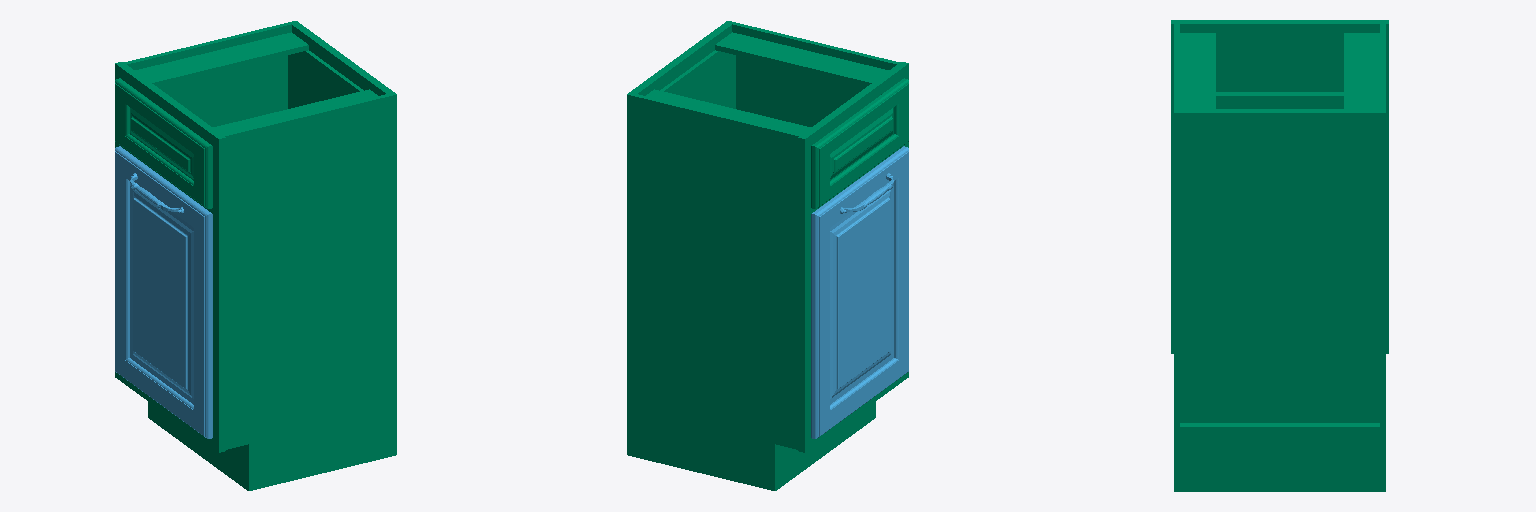
robot.urdf — partnet_3c2a50e5907b0fb64da5feafe6f1c8fc:
<?xml version="1.0" ?>
<robot name="partnet_3c2a50e5907b0fb64da5feafe6f1c8fc">
	<link name="base"/>
	<link name="link_0">
		<visual name="cabinet_door_surface-7">
			<origin xyz="-0.3840751738462726 -0.8307549953460693 -0.42810070996948674"/>
			<geometry>
				<mesh filename="textured_objs/original-45.obj"/>
			</geometry>
		</visual>
		<visual name="cabinet_door_surface-7">
			<origin xyz="-0.3840751738462726 -0.8307549953460693 -0.42810070996948674"/>
			<geometry>
				<mesh filename="textured_objs/original-39.obj"/>
			</geometry>
		</visual>
		<visual name="cabinet_door_surface-7">
			<origin xyz="-0.3840751738462726 -0.8307549953460693 -0.42810070996948674"/>
			<geometry>
				<mesh filename="textured_objs/original-36.obj"/>
			</geometry>
		</visual>
		<visual name="cabinet_door_surface-7">
			<origin xyz="-0.3840751738462726 -0.8307549953460693 -0.42810070996948674"/>
			<geometry>
				<mesh filename="textured_objs/original-42.obj"/>
			</geometry>
		</visual>
		<visual name="cabinet_door_surface-7">
			<origin xyz="-0.3840751738462726 -0.8307549953460693 -0.42810070996948674"/>
			<geometry>
				<mesh filename="textured_objs/original-38.obj"/>
			</geometry>
		</visual>
		<visual name="cabinet_door_surface-7">
			<origin xyz="-0.3840751738462726 -0.8307549953460693 -0.42810070996948674"/>
			<geometry>
				<mesh filename="textured_objs/original-40.obj"/>
			</geometry>
		</visual>
		<visual name="cabinet_door_surface-7">
			<origin xyz="-0.3840751738462726 -0.8307549953460693 -0.42810070996948674"/>
			<geometry>
				<mesh filename="textured_objs/original-37.obj"/>
			</geometry>
		</visual>
		<visual name="cabinet_door_surface-7">
			<origin xyz="-0.3840751738462726 -0.8307549953460693 -0.42810070996948674"/>
			<geometry>
				<mesh filename="textured_objs/original-41.obj"/>
			</geometry>
		</visual>
		<visual name="cabinet_door_surface-7">
			<origin xyz="-0.3840751738462726 -0.8307549953460693 -0.42810070996948674"/>
			<geometry>
				<mesh filename="textured_objs/original-35.obj"/>
			</geometry>
		</visual>
		<visual name="cabinet_door_surface-7">
			<origin xyz="-0.3840751738462726 -0.8307549953460693 -0.42810070996948674"/>
			<geometry>
				<mesh filename="textured_objs/original-44.obj"/>
			</geometry>
		</visual>
		<visual name="handle-8">
			<origin xyz="-0.3840751738462726 -0.8307549953460693 -0.42810070996948674"/>
			<geometry>
				<mesh filename="textured_objs/original-52.obj"/>
			</geometry>
		</visual>
		<visual name="handle-8">
			<origin xyz="-0.3840751738462726 -0.8307549953460693 -0.42810070996948674"/>
			<geometry>
				<mesh filename="textured_objs/original-53.obj"/>
			</geometry>
		</visual>
		<visual name="handle-8">
			<origin xyz="-0.3840751738462726 -0.8307549953460693 -0.42810070996948674"/>
			<geometry>
				<mesh filename="textured_objs/original-49.obj"/>
			</geometry>
		</visual>
		<visual name="handle-8">
			<origin xyz="-0.3840751738462726 -0.8307549953460693 -0.42810070996948674"/>
			<geometry>
				<mesh filename="textured_objs/original-48.obj"/>
			</geometry>
		</visual>
		<visual name="handle-8">
			<origin xyz="-0.3840751738462726 -0.8307549953460693 -0.42810070996948674"/>
			<geometry>
				<mesh filename="textured_objs/original-51.obj"/>
			</geometry>
		</visual>
		<collision>
			<origin xyz="-0.3840751738462726 -0.8307549953460693 -0.42810070996948674"/>
			<geometry>
				<mesh filename="textured_objs/original-45.obj"/>
			</geometry>
		</collision>
		<collision>
			<origin xyz="-0.3840751738462726 -0.8307549953460693 -0.42810070996948674"/>
			<geometry>
				<mesh filename="textured_objs/original-39.obj"/>
			</geometry>
		</collision>
		<collision>
			<origin xyz="-0.3840751738462726 -0.8307549953460693 -0.42810070996948674"/>
			<geometry>
				<mesh filename="textured_objs/original-36.obj"/>
			</geometry>
		</collision>
		<collision>
			<origin xyz="-0.3840751738462726 -0.8307549953460693 -0.42810070996948674"/>
			<geometry>
				<mesh filename="textured_objs/original-42.obj"/>
			</geometry>
		</collision>
		<collision>
			<origin xyz="-0.3840751738462726 -0.8307549953460693 -0.42810070996948674"/>
			<geometry>
				<mesh filename="textured_objs/original-38.obj"/>
			</geometry>
		</collision>
		<collision>
			<origin xyz="-0.3840751738462726 -0.8307549953460693 -0.42810070996948674"/>
			<geometry>
				<mesh filename="textured_objs/original-40.obj"/>
			</geometry>
		</collision>
		<collision>
			<origin xyz="-0.3840751738462726 -0.8307549953460693 -0.42810070996948674"/>
			<geometry>
				<mesh filename="textured_objs/original-37.obj"/>
			</geometry>
		</collision>
		<collision>
			<origin xyz="-0.3840751738462726 -0.8307549953460693 -0.42810070996948674"/>
			<geometry>
				<mesh filename="textured_objs/original-41.obj"/>
			</geometry>
		</collision>
		<collision>
			<origin xyz="-0.3840751738462726 -0.8307549953460693 -0.42810070996948674"/>
			<geometry>
				<mesh filename="textured_objs/original-35.obj"/>
			</geometry>
		</collision>
		<collision>
			<origin xyz="-0.3840751738462726 -0.8307549953460693 -0.42810070996948674"/>
			<geometry>
				<mesh filename="textured_objs/original-44.obj"/>
			</geometry>
		</collision>
		<collision>
			<origin xyz="-0.3840751738462726 -0.8307549953460693 -0.42810070996948674"/>
			<geometry>
				<mesh filename="textured_objs/original-52.obj"/>
			</geometry>
		</collision>
		<collision>
			<origin xyz="-0.3840751738462726 -0.8307549953460693 -0.42810070996948674"/>
			<geometry>
				<mesh filename="textured_objs/original-53.obj"/>
			</geometry>
		</collision>
		<collision>
			<origin xyz="-0.3840751738462726 -0.8307549953460693 -0.42810070996948674"/>
			<geometry>
				<mesh filename="textured_objs/original-49.obj"/>
			</geometry>
		</collision>
		<collision>
			<origin xyz="-0.3840751738462726 -0.8307549953460693 -0.42810070996948674"/>
			<geometry>
				<mesh filename="textured_objs/original-48.obj"/>
			</geometry>
		</collision>
		<collision>
			<origin xyz="-0.3840751738462726 -0.8307549953460693 -0.42810070996948674"/>
			<geometry>
				<mesh filename="textured_objs/original-51.obj"/>
			</geometry>
		</collision>
	</link>
	<joint name="joint_0" type="revolute">
		<origin xyz="0.3840751738462726 0.8307549953460693 0.42810070996948674"/>
		<axis xyz="0 1 0"/>
		<child link="link_0"/>
		<parent link="link_1"/>
		<limit lower="0.0" upper="1.5707963267948966"/>
	</joint>
	<link name="link_1">
		<visual name="drawer_front-6">
			<origin xyz="0 0 0"/>
			<geometry>
				<mesh filename="textured_objs/original-32.obj"/>
			</geometry>
		</visual>
		<visual name="drawer_front-6">
			<origin xyz="0 0 0"/>
			<geometry>
				<mesh filename="textured_objs/original-27.obj"/>
			</geometry>
		</visual>
		<visual name="drawer_front-6">
			<origin xyz="0 0 0"/>
			<geometry>
				<mesh filename="textured_objs/original-23.obj"/>
			</geometry>
		</visual>
		<visual name="drawer_front-6">
			<origin xyz="0 0 0"/>
			<geometry>
				<mesh filename="textured_objs/original-29.obj"/>
			</geometry>
		</visual>
		<visual name="drawer_front-6">
			<origin xyz="0 0 0"/>
			<geometry>
				<mesh filename="textured_objs/original-26.obj"/>
			</geometry>
		</visual>
		<visual name="drawer_front-6">
			<origin xyz="0 0 0"/>
			<geometry>
				<mesh filename="textured_objs/original-28.obj"/>
			</geometry>
		</visual>
		<visual name="drawer_front-6">
			<origin xyz="0 0 0"/>
			<geometry>
				<mesh filename="textured_objs/original-25.obj"/>
			</geometry>
		</visual>
		<visual name="drawer_front-6">
			<origin xyz="0 0 0"/>
			<geometry>
				<mesh filename="textured_objs/original-30.obj"/>
			</geometry>
		</visual>
		<visual name="drawer_front-6">
			<origin xyz="0 0 0"/>
			<geometry>
				<mesh filename="textured_objs/original-24.obj"/>
			</geometry>
		</visual>
		<visual name="drawer_front-6">
			<origin xyz="0 0 0"/>
			<geometry>
				<mesh filename="textured_objs/original-33.obj"/>
			</geometry>
		</visual>
		<visual name="vertical_side_panel-17">
			<origin xyz="0 0 0"/>
			<geometry>
				<mesh filename="textured_objs/original-15.obj"/>
			</geometry>
		</visual>
		<visual name="vertical_side_panel-17">
			<origin xyz="0 0 0"/>
			<geometry>
				<mesh filename="textured_objs/original-14.obj"/>
			</geometry>
		</visual>
		<visual name="vertical_side_panel-18">
			<origin xyz="0 0 0"/>
			<geometry>
				<mesh filename="textured_objs/original-11.obj"/>
			</geometry>
		</visual>
		<visual name="vertical_side_panel-18">
			<origin xyz="0 0 0"/>
			<geometry>
				<mesh filename="textured_objs/original-10.obj"/>
			</geometry>
		</visual>
		<visual name="back_panel-19">
			<origin xyz="0 0 0"/>
			<geometry>
				<mesh filename="textured_objs/original-5.obj"/>
			</geometry>
		</visual>
		<visual name="bottom_panel-20">
			<origin xyz="0 0 0"/>
			<geometry>
				<mesh filename="textured_objs/original-2.obj"/>
			</geometry>
		</visual>
		<visual name="frame_vertical_bar-21">
			<origin xyz="0 0 0"/>
			<geometry>
				<mesh filename="textured_objs/original-3.obj"/>
			</geometry>
		</visual>
		<visual name="frame_vertical_bar-22">
			<origin xyz="0 0 0"/>
			<geometry>
				<mesh filename="textured_objs/original-7.obj"/>
			</geometry>
		</visual>
		<visual name="frame_horizontal_bar-23">
			<origin xyz="0 0 0"/>
			<geometry>
				<mesh filename="textured_objs/original-4.obj"/>
			</geometry>
		</visual>
		<visual name="frame_horizontal_bar-24">
			<origin xyz="0 0 0"/>
			<geometry>
				<mesh filename="textured_objs/original-20.obj"/>
			</geometry>
		</visual>
		<visual name="frame_horizontal_bar-25">
			<origin xyz="0 0 0"/>
			<geometry>
				<mesh filename="textured_objs/original-21.obj"/>
			</geometry>
		</visual>
		<visual name="frame_horizontal_bar-26">
			<origin xyz="0 0 0"/>
			<geometry>
				<mesh filename="textured_objs/original-8.obj"/>
			</geometry>
		</visual>
		<visual name="frame_horizontal_bar-27">
			<origin xyz="0 0 0"/>
			<geometry>
				<mesh filename="textured_objs/original-17.obj"/>
			</geometry>
		</visual>
		<visual name="frame_horizontal_bar-28">
			<origin xyz="0 0 0"/>
			<geometry>
				<mesh filename="textured_objs/original-6.obj"/>
			</geometry>
		</visual>
		<visual name="other_leaf-30">
			<origin xyz="0 0 0"/>
			<geometry>
				<mesh filename="textured_objs/original-54.obj"/>
			</geometry>
		</visual>
		<visual name="base_side_panel-13">
			<origin xyz="0 0 0"/>
			<geometry>
				<mesh filename="textured_objs/original-12.obj"/>
			</geometry>
		</visual>
		<visual name="base_side_panel-14">
			<origin xyz="0 0 0"/>
			<geometry>
				<mesh filename="textured_objs/original-18.obj"/>
			</geometry>
		</visual>
		<visual name="base_side_panel-15">
			<origin xyz="0 0 0"/>
			<geometry>
				<mesh filename="textured_objs/original-16.obj"/>
			</geometry>
		</visual>
		<visual name="base_side_panel-16">
			<origin xyz="0 0 0"/>
			<geometry>
				<mesh filename="textured_objs/original-19.obj"/>
			</geometry>
		</visual>
		<collision>
			<origin xyz="0 0 0"/>
			<geometry>
				<mesh filename="textured_objs/original-32.obj"/>
			</geometry>
		</collision>
		<collision>
			<origin xyz="0 0 0"/>
			<geometry>
				<mesh filename="textured_objs/original-27.obj"/>
			</geometry>
		</collision>
		<collision>
			<origin xyz="0 0 0"/>
			<geometry>
				<mesh filename="textured_objs/original-23.obj"/>
			</geometry>
		</collision>
		<collision>
			<origin xyz="0 0 0"/>
			<geometry>
				<mesh filename="textured_objs/original-29.obj"/>
			</geometry>
		</collision>
		<collision>
			<origin xyz="0 0 0"/>
			<geometry>
				<mesh filename="textured_objs/original-26.obj"/>
			</geometry>
		</collision>
		<collision>
			<origin xyz="0 0 0"/>
			<geometry>
				<mesh filename="textured_objs/original-28.obj"/>
			</geometry>
		</collision>
		<collision>
			<origin xyz="0 0 0"/>
			<geometry>
				<mesh filename="textured_objs/original-25.obj"/>
			</geometry>
		</collision>
		<collision>
			<origin xyz="0 0 0"/>
			<geometry>
				<mesh filename="textured_objs/original-30.obj"/>
			</geometry>
		</collision>
		<collision>
			<origin xyz="0 0 0"/>
			<geometry>
				<mesh filename="textured_objs/original-24.obj"/>
			</geometry>
		</collision>
		<collision>
			<origin xyz="0 0 0"/>
			<geometry>
				<mesh filename="textured_objs/original-33.obj"/>
			</geometry>
		</collision>
		<collision>
			<origin xyz="0 0 0"/>
			<geometry>
				<mesh filename="textured_objs/original-15.obj"/>
			</geometry>
		</collision>
		<collision>
			<origin xyz="0 0 0"/>
			<geometry>
				<mesh filename="textured_objs/original-14.obj"/>
			</geometry>
		</collision>
		<collision>
			<origin xyz="0 0 0"/>
			<geometry>
				<mesh filename="textured_objs/original-11.obj"/>
			</geometry>
		</collision>
		<collision>
			<origin xyz="0 0 0"/>
			<geometry>
				<mesh filename="textured_objs/original-10.obj"/>
			</geometry>
		</collision>
		<collision>
			<origin xyz="0 0 0"/>
			<geometry>
				<mesh filename="textured_objs/original-5.obj"/>
			</geometry>
		</collision>
		<collision>
			<origin xyz="0 0 0"/>
			<geometry>
				<mesh filename="textured_objs/original-2.obj"/>
			</geometry>
		</collision>
		<collision>
			<origin xyz="0 0 0"/>
			<geometry>
				<mesh filename="textured_objs/original-3.obj"/>
			</geometry>
		</collision>
		<collision>
			<origin xyz="0 0 0"/>
			<geometry>
				<mesh filename="textured_objs/original-7.obj"/>
			</geometry>
		</collision>
		<collision>
			<origin xyz="0 0 0"/>
			<geometry>
				<mesh filename="textured_objs/original-4.obj"/>
			</geometry>
		</collision>
		<collision>
			<origin xyz="0 0 0"/>
			<geometry>
				<mesh filename="textured_objs/original-20.obj"/>
			</geometry>
		</collision>
		<collision>
			<origin xyz="0 0 0"/>
			<geometry>
				<mesh filename="textured_objs/original-21.obj"/>
			</geometry>
		</collision>
		<collision>
			<origin xyz="0 0 0"/>
			<geometry>
				<mesh filename="textured_objs/original-8.obj"/>
			</geometry>
		</collision>
		<collision>
			<origin xyz="0 0 0"/>
			<geometry>
				<mesh filename="textured_objs/original-17.obj"/>
			</geometry>
		</collision>
		<collision>
			<origin xyz="0 0 0"/>
			<geometry>
				<mesh filename="textured_objs/original-6.obj"/>
			</geometry>
		</collision>
		<collision>
			<origin xyz="0 0 0"/>
			<geometry>
				<mesh filename="textured_objs/original-54.obj"/>
			</geometry>
		</collision>
		<collision>
			<origin xyz="0 0 0"/>
			<geometry>
				<mesh filename="textured_objs/original-12.obj"/>
			</geometry>
		</collision>
		<collision>
			<origin xyz="0 0 0"/>
			<geometry>
				<mesh filename="textured_objs/original-18.obj"/>
			</geometry>
		</collision>
		<collision>
			<origin xyz="0 0 0"/>
			<geometry>
				<mesh filename="textured_objs/original-16.obj"/>
			</geometry>
		</collision>
		<collision>
			<origin xyz="0 0 0"/>
			<geometry>
				<mesh filename="textured_objs/original-19.obj"/>
			</geometry>
		</collision>
	</link>
	<joint name="joint_1" type="fixed">
		<origin rpy="1.570796326794897 0 -1.570796326794897" xyz="0 0 0"/>
		<child link="link_1"/>
		<parent link="base"/>
	</joint>
</robot>

--- Facts derived from the render (not from the file) ---
3 views of the same robot in one strip: view 1: azimuth 30°, elevation 25°; view 2: azimuth 150°, elevation 25°; view 3: azimuth 270°, elevation 25° (orthographic).
Robot: partnet_3c2a50e5907b0fb64da5feafe6f1c8fc — 3 links, 2 joints (1 revolute, 1 fixed); root link base; default pose: all joints at 0.
Links seen in each view (by area): view 1: link_1, link_0; view 2: link_1, link_0; view 3: link_1.
Boxes of the visible links, left/top/right/bottom form: link_1: left=115, top=21, right=396, bottom=490; link_0: left=115, top=146, right=212, bottom=438; link_1: left=627, top=21, right=908, bottom=490; link_0: left=811, top=146, right=908, bottom=438; link_1: left=1171, top=20, right=1388, bottom=491.
Bounding box of the posed robot: 0.9781 × 0.8734 × 1.67 m (x, y, z).
Meshes: 44 distinct files referenced, 44 mesh visuals loaded (44 OBJ).
